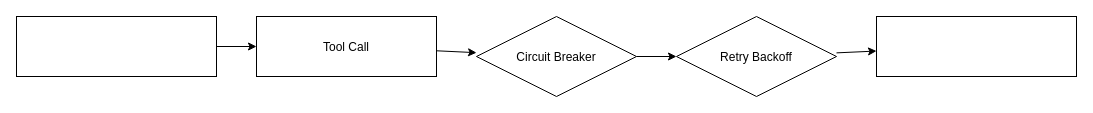
Some shapes in this 1093 by 113 pixel diagram are drawn without their labels. The box of each missing label's shape, as (x1, y1, x2, y2) in pixels:
Human-in-loop: (876, 16, 1076, 76)
Orchestrator: (16, 16, 216, 76)
